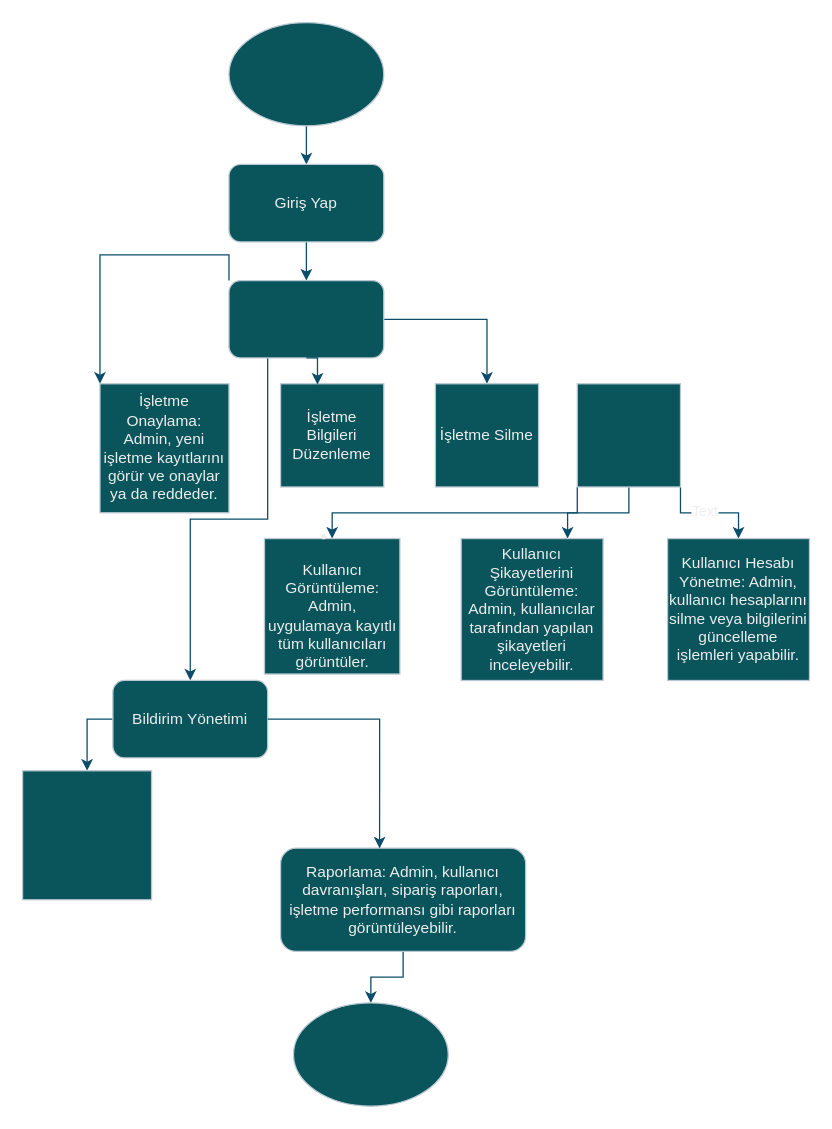
This 832x1129 diagram has some shape labels left out. Here are the shapes that lost their labels. From the top down, the centre of each, then its label:
At pixel 306 73: "Başla".
At pixel 306 318: "Admin Ana Menüsüne Erişim".
At pixel 628 434: "Kullanıcı Yönetimi".
At pixel 86 834: "Bildirim Gönderme : Admin, kullanıcılar veya işletmelere bildirim gönderebilir".
At pixel 370 1054: "Bitiş".
